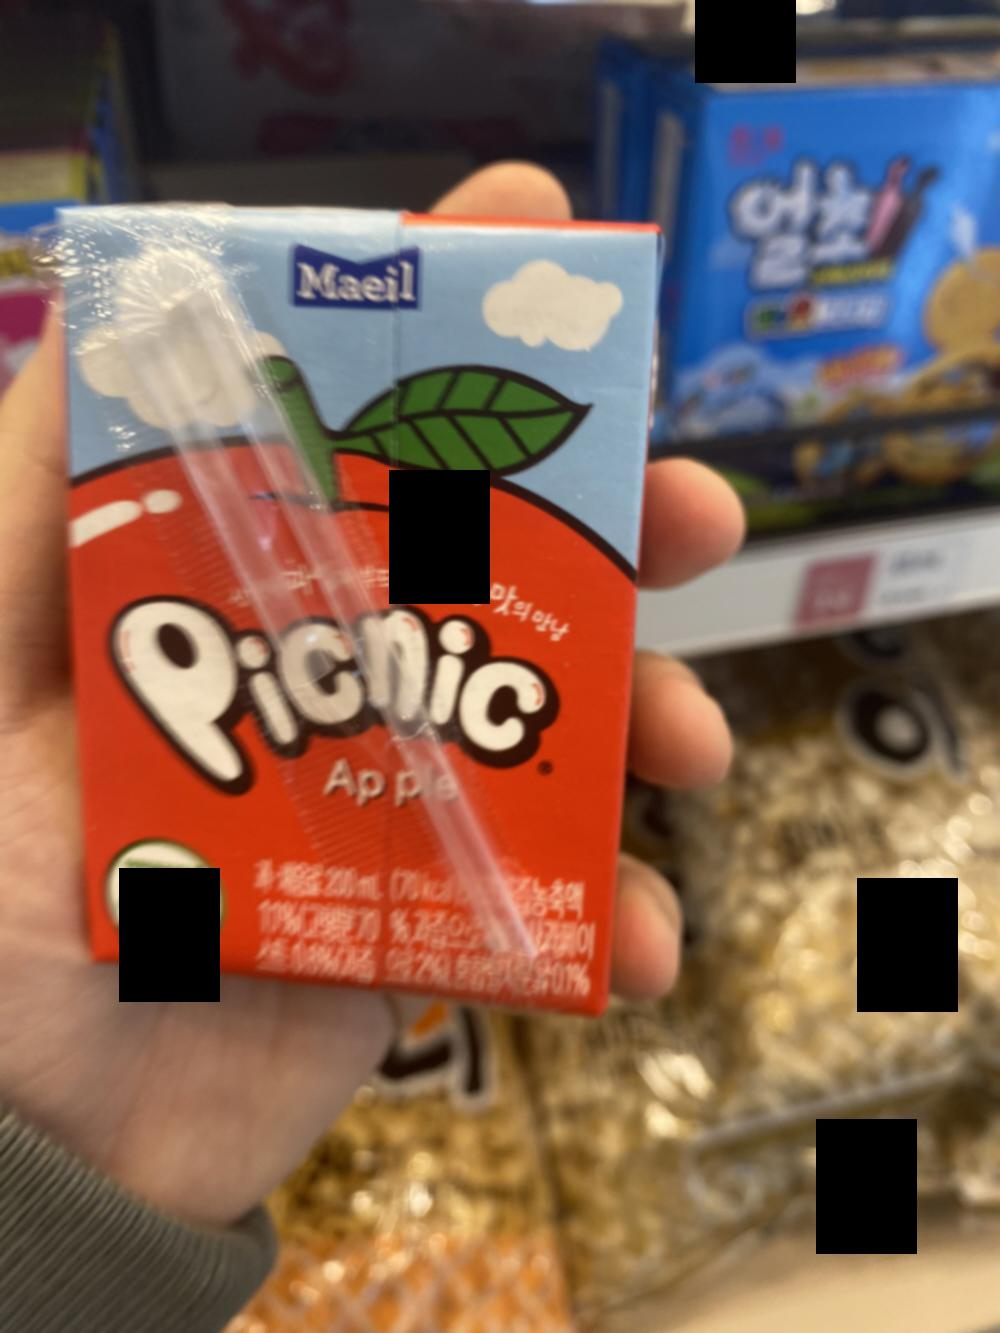picnic_apple: (61, 194, 661, 1022)
